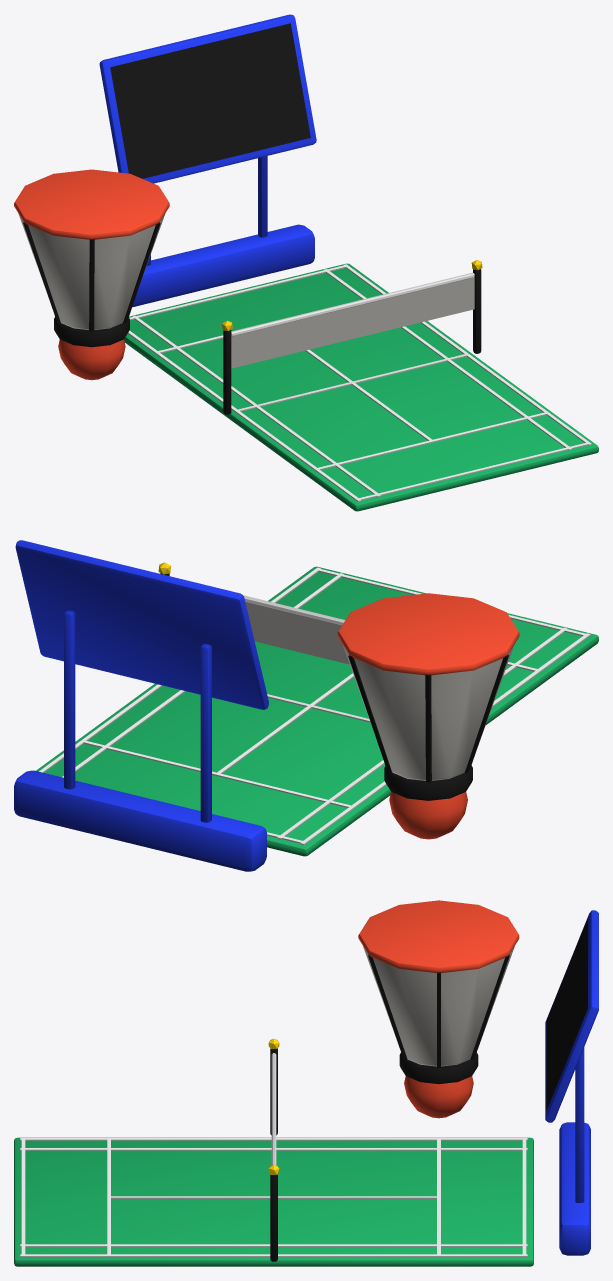
The model's file is pbundip.glb.
The picture shows the model from 3 angles, top to bottom: view 1: azimuth 30°, elevation 25°; view 2: azimuth 150°, elevation 25°; view 3: azimuth 270°, elevation 25°; orthographic projection. The views are drawn at different scales.
Parts seen in each view (by area): view 1: pbundip, screen; view 2: pbundip; view 3: pbundip, screen.
Boxes of the visible parts, bbox=[...] form: pbundip: bbox=[14, 14, 598, 511]; screen: bbox=[110, 23, 310, 178]; pbundip: bbox=[14, 540, 598, 871]; pbundip: bbox=[14, 900, 598, 1266]; screen: bbox=[546, 918, 587, 1110].
Bounding box in the file's own units: 7.12 × 4.32 × 9.22.
